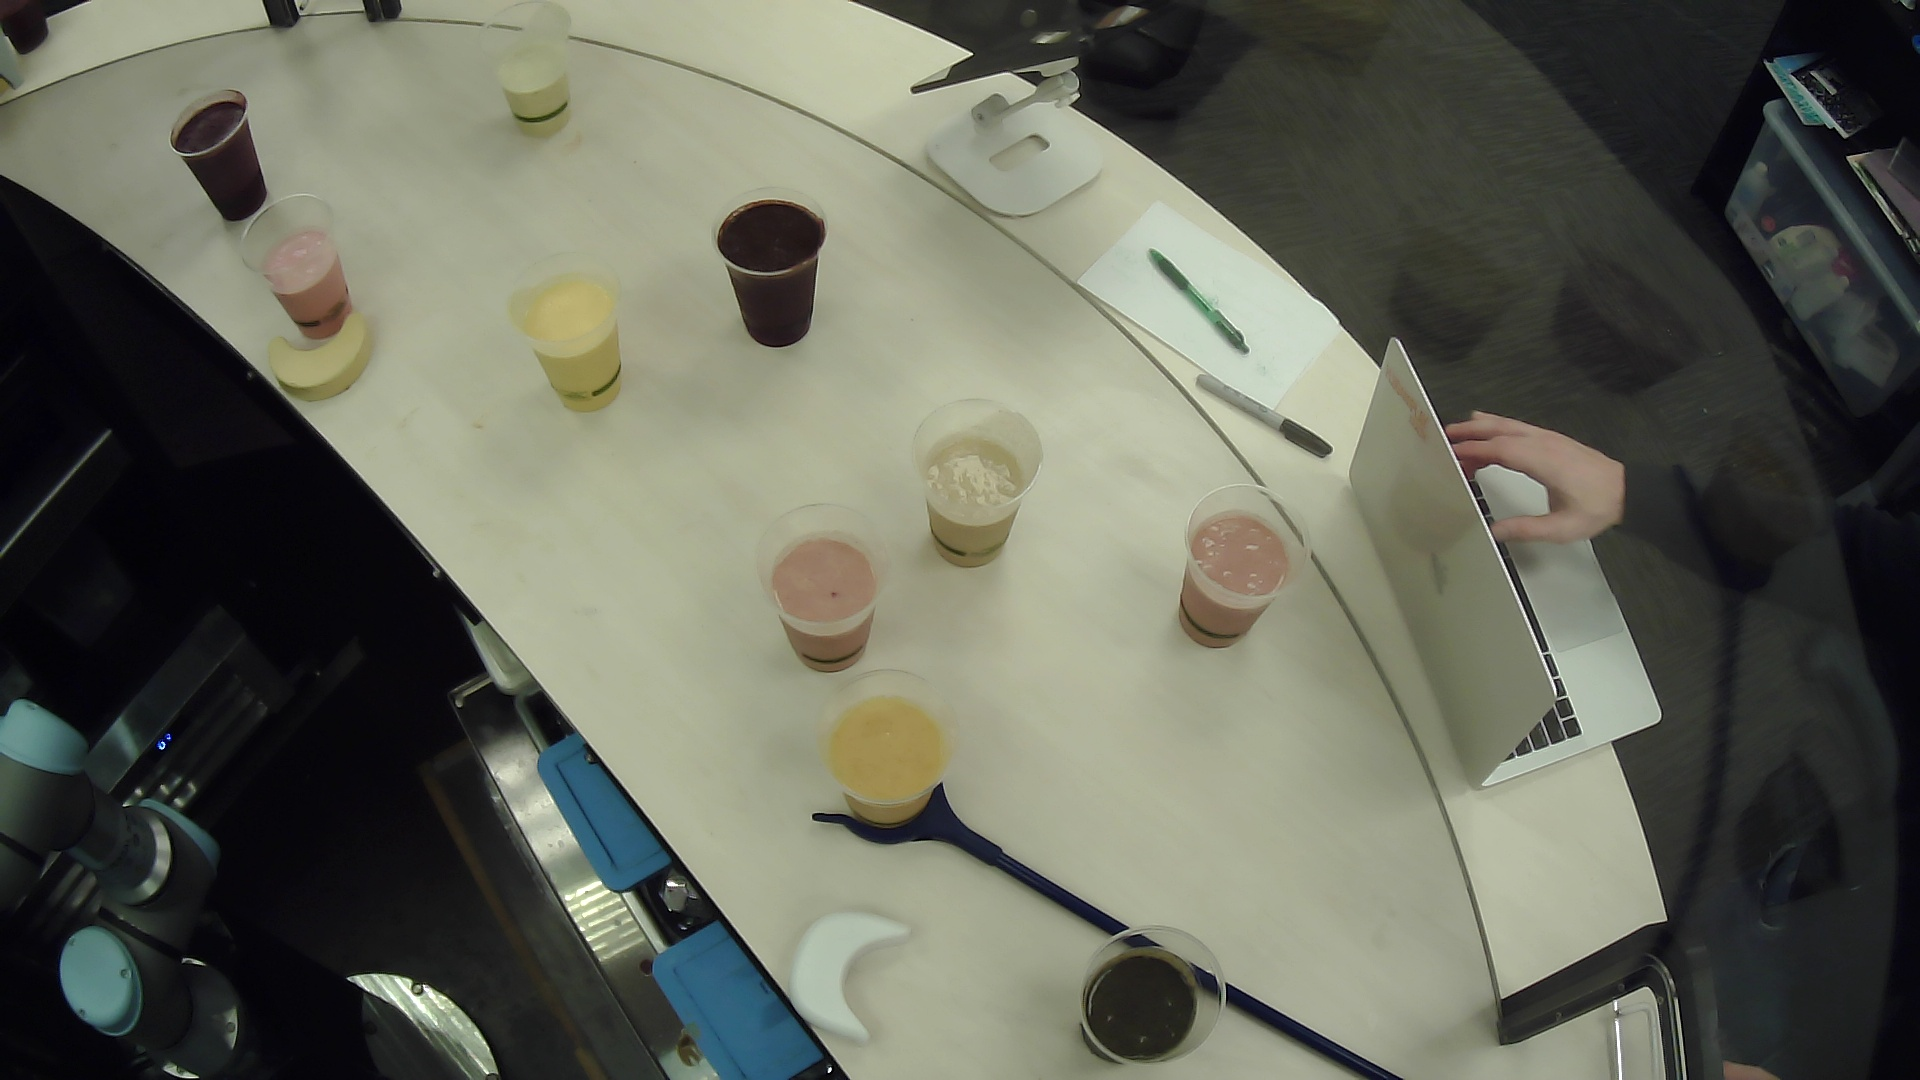Deliver: (769, 887, 934, 1048), (241, 306, 389, 422)
Full_cup: (907, 359, 1058, 595), (804, 644, 967, 855), (481, 237, 662, 421), (1062, 910, 1251, 1077), (742, 479, 894, 686), (1164, 473, 1325, 665), (224, 165, 375, 347), (703, 171, 843, 364), (135, 84, 284, 222), (454, 1, 597, 141)
